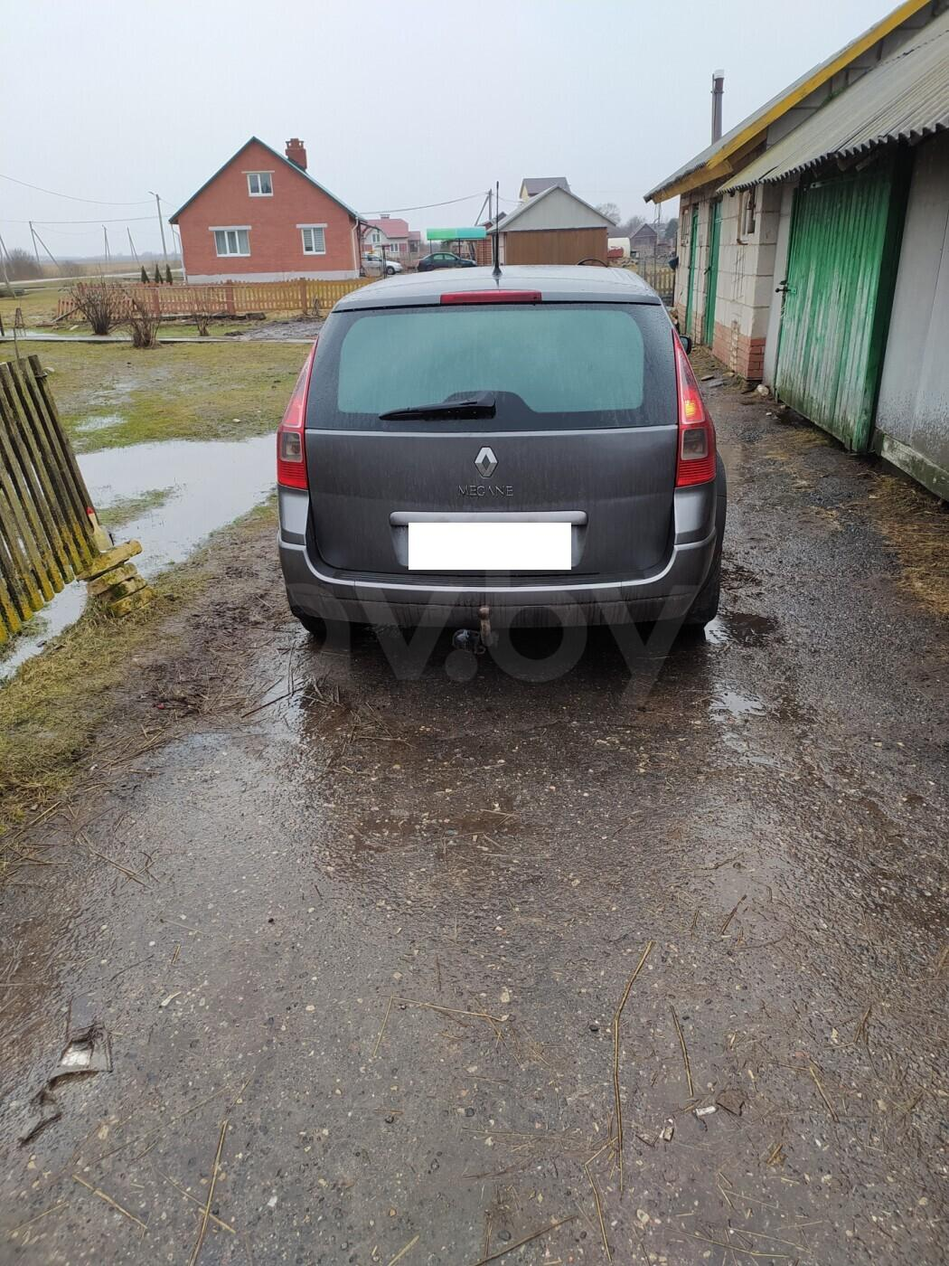Megane_2005-2009: (264, 269, 730, 671)
